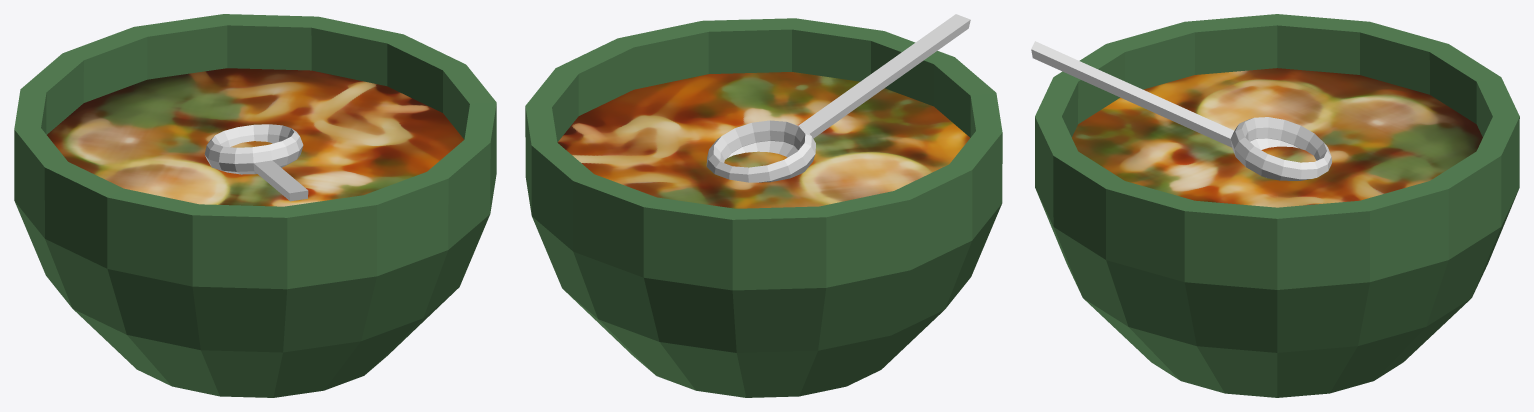
File: sopa de abuela girasema.FBX
3 renders of one model, left to right at view 1: azimuth 30°, elevation 25°; view 2: azimuth 150°, elevation 25°; view 3: azimuth 270°, elevation 25°, orthographic.
Parts seen in each view (by area): view 1: bowl para sopa, sopa de lima, cuchara para sopa; view 2: bowl para sopa, sopa de lima, cuchara para sopa; view 3: bowl para sopa, sopa de lima, cuchara para sopa.
Part boxes in pixels (left/top/right/bottom): bowl para sopa: left=14, top=14, right=496, bottom=397; sopa de lima: left=47, top=68, right=463, bottom=206; cuchara para sopa: left=204, top=124, right=308, bottom=201; bowl para sopa: left=525, top=18, right=1002, bottom=397; sopa de lima: left=557, top=72, right=969, bottom=208; cuchara para sopa: left=706, top=14, right=970, bottom=182; bowl para sopa: left=1035, top=14, right=1519, bottom=397; sopa de lima: left=1072, top=68, right=1482, bottom=207; cuchara para sopa: left=1031, top=41, right=1331, bottom=180.
Bounding box in the file's own units: 11.41 × 6.66 × 11.5.
